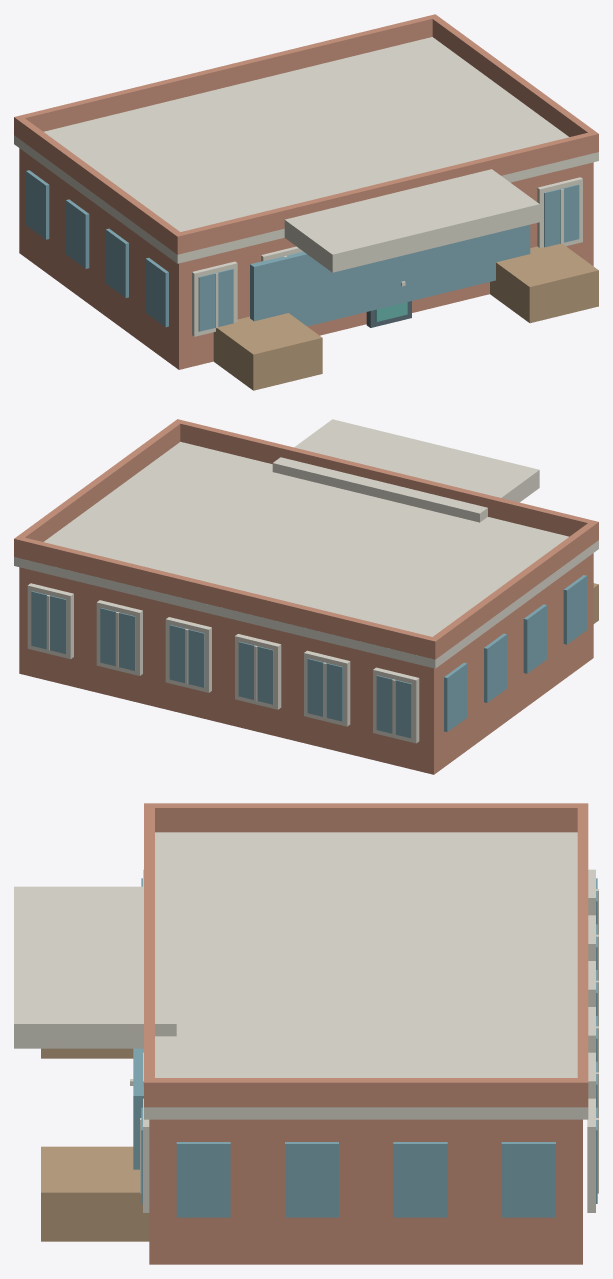
The picture shows the model from 3 angles, top to bottom: view 1: azimuth 30°, elevation 25°; view 2: azimuth 150°, elevation 25°; view 3: azimuth 270°, elevation 25°; orthographic projection. The views are drawn at different scales.
Visible parts, largest first — view 1: branch-library-concrete, branch-library-brick, branch-library-glass, branch-library-wood; view 2: branch-library-concrete, branch-library-brick, branch-library-glass; view 3: branch-library-concrete, branch-library-brick, branch-library-glass, branch-library-wood.
Part boxes in pixels (x1,y1,x2,y2): branch-library-concrete: (14,37,598,336); branch-library-brick: (14,14,598,369); branch-library-glass: (26,170,579,331); branch-library-wood: (213,243,598,390); branch-library-concrete: (14,419,598,743); branch-library-brick: (14,419,598,774); branch-library-glass: (31,575,586,738); branch-library-concrete: (14,832,598,1212); branch-library-brick: (144,803,588,1264); branch-library-glass: (133,878,597,1217); branch-library-wood: (41,1048,149,1241).
Bounding box in the file's own units: 12.2 × 3.75 × 10.8.
